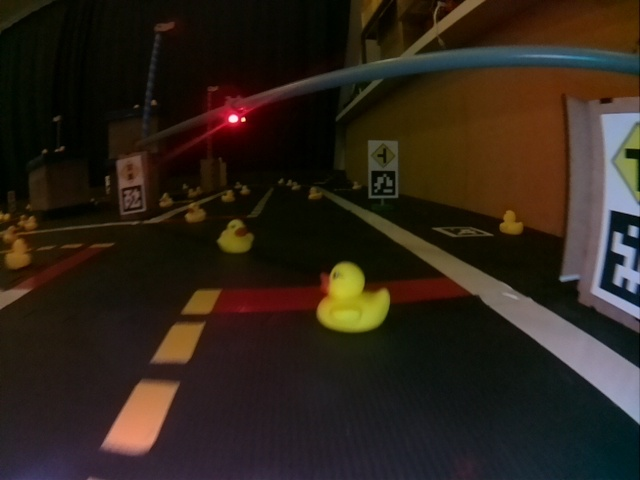Duckie: (318, 264, 390, 331), (217, 220, 254, 253), (6, 239, 30, 268), (500, 211, 523, 234), (185, 204, 205, 223), (159, 194, 173, 207), (222, 190, 233, 202)
Intersection sign: (371, 143, 395, 166)
QR code: (595, 211, 639, 312), (434, 227, 494, 237), (372, 171, 394, 198), (122, 186, 144, 212)
Signal sign: (120, 161, 141, 184)
Traffic light: (226, 95, 245, 126)
